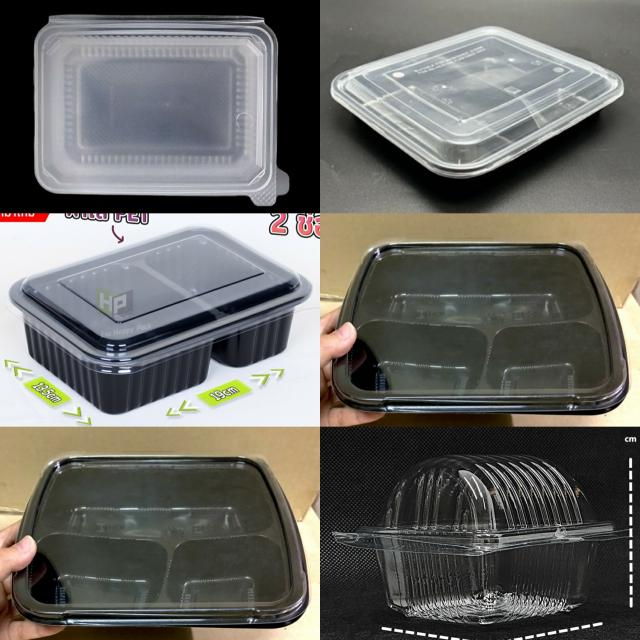Single-Use-Plastic: (9, 226, 311, 414), (333, 244, 628, 413), (14, 456, 308, 625), (334, 455, 624, 624), (34, 15, 289, 206), (330, 26, 624, 178)
